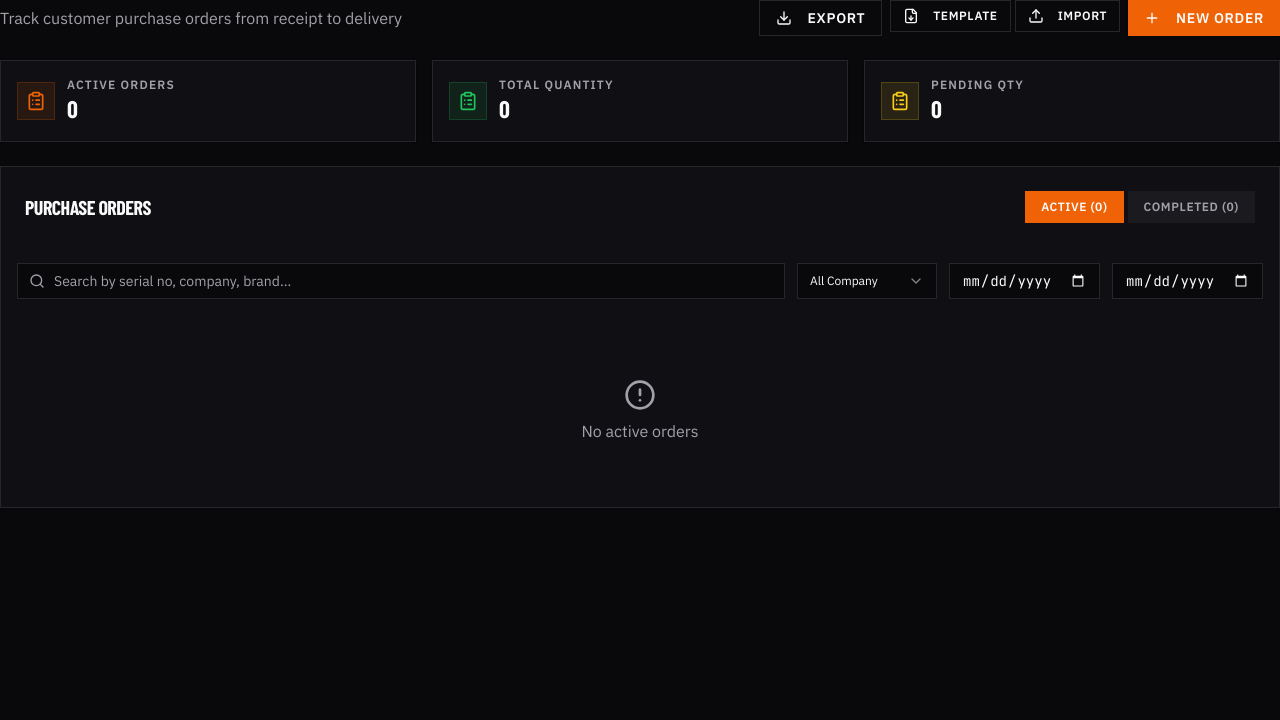
Test case: Purchase Orders: the create dialog customer and staging fields are labelled
Click the button with test id "add-po-btn".
click(1204, 18)  # box left=1128, top=0, right=1279, bottom=36
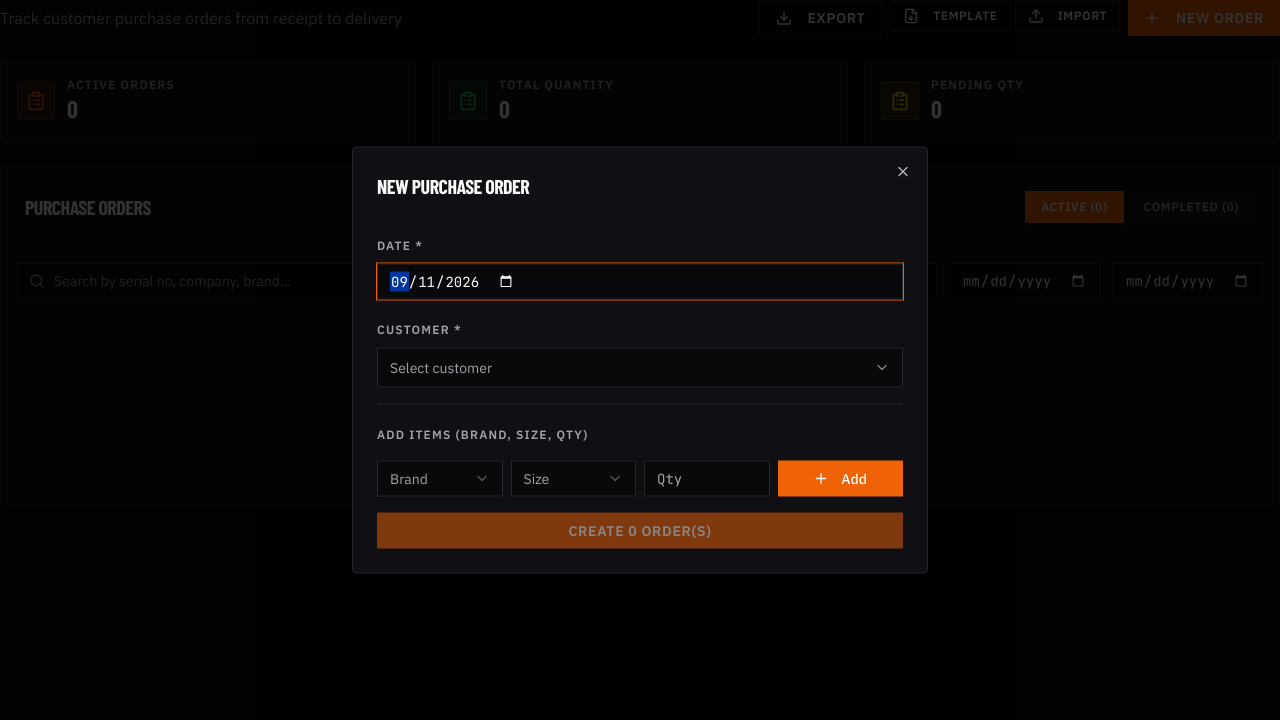
Result: the date field with test id "po-date" is shown at left=377, top=264, right=903, bottom=300
